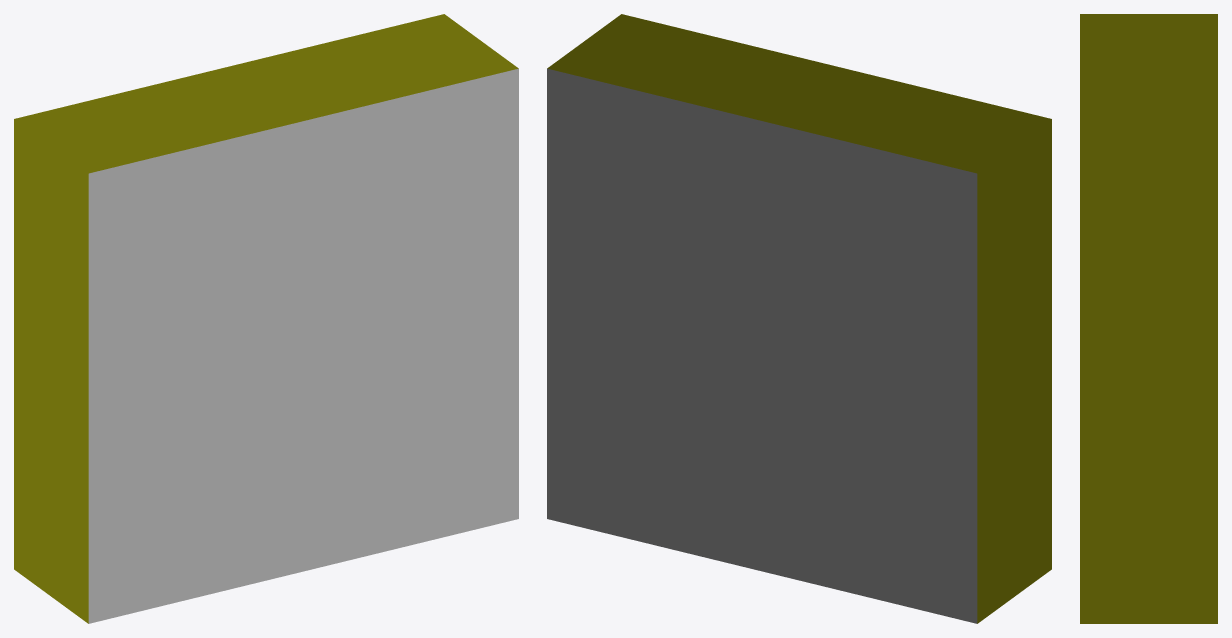
File: idf.obj
The picture shows the model from 3 angles, left to right: view 1: azimuth 30°, elevation 25°; view 2: azimuth 150°, elevation 25°; view 3: azimuth 270°, elevation 25°; orthographic projection. The views are drawn at different scales.
Size of the model in its own units: 15.24 by 15.24 by 4.57.
